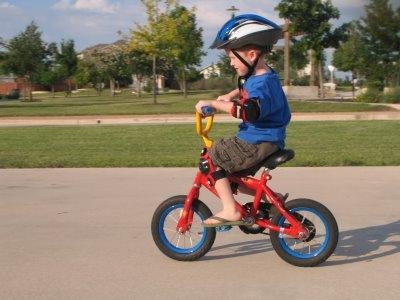person: (197, 14, 293, 226)
